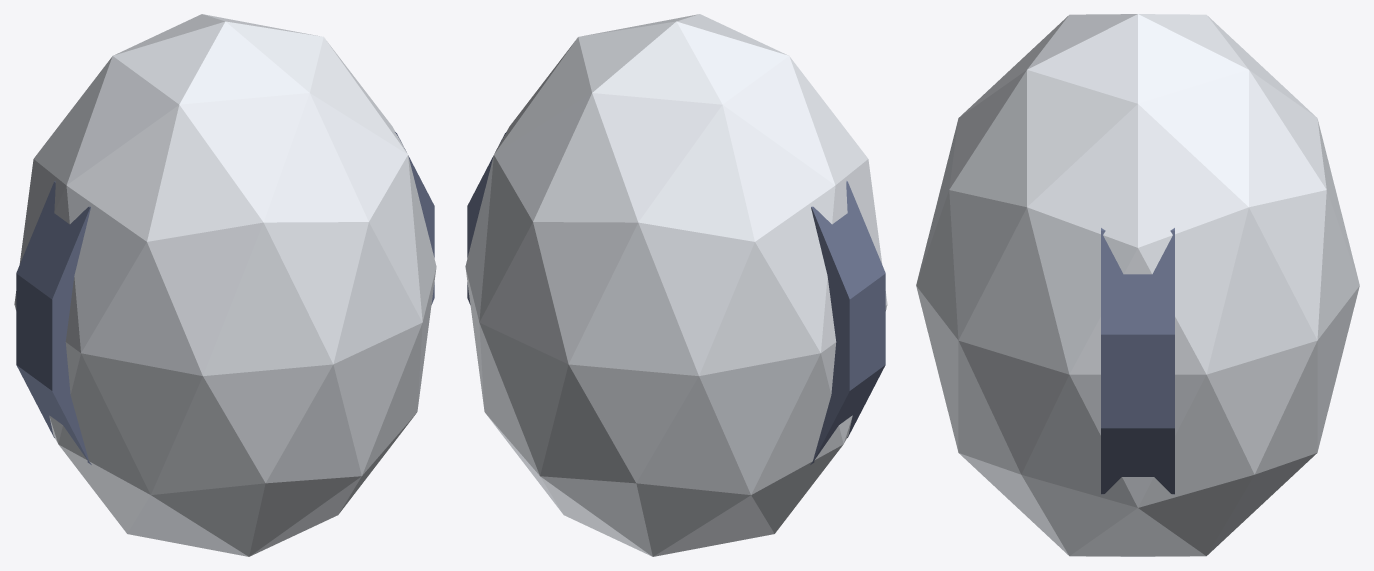
3 views of the same model, side by side, from view 1: azimuth 30°, elevation 25°; view 2: azimuth 150°, elevation 25°; view 3: azimuth 270°, elevation 25° (orthographic). The views are drawn at different scales.
Parts seen in each view (by area): view 1: capsule; view 2: capsule; view 3: capsule.
Part boxes in pixels (x1=…): capsule: x1=14, y1=14, x2=436, y2=556; capsule: x1=465, y1=14, x2=887, y2=556; capsule: x1=916, y1=14, x2=1359, y2=556.
Size of the model in its own units: 0.6142 by 0.81 by 0.6.
